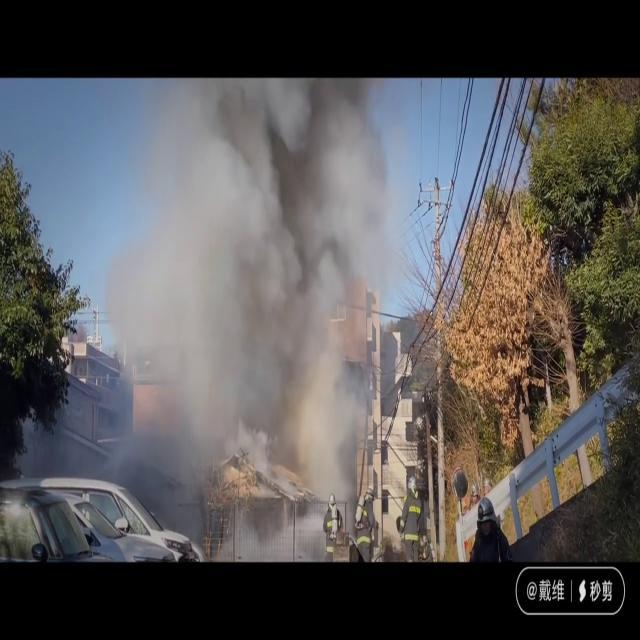Smoke: (89, 78, 399, 521)
